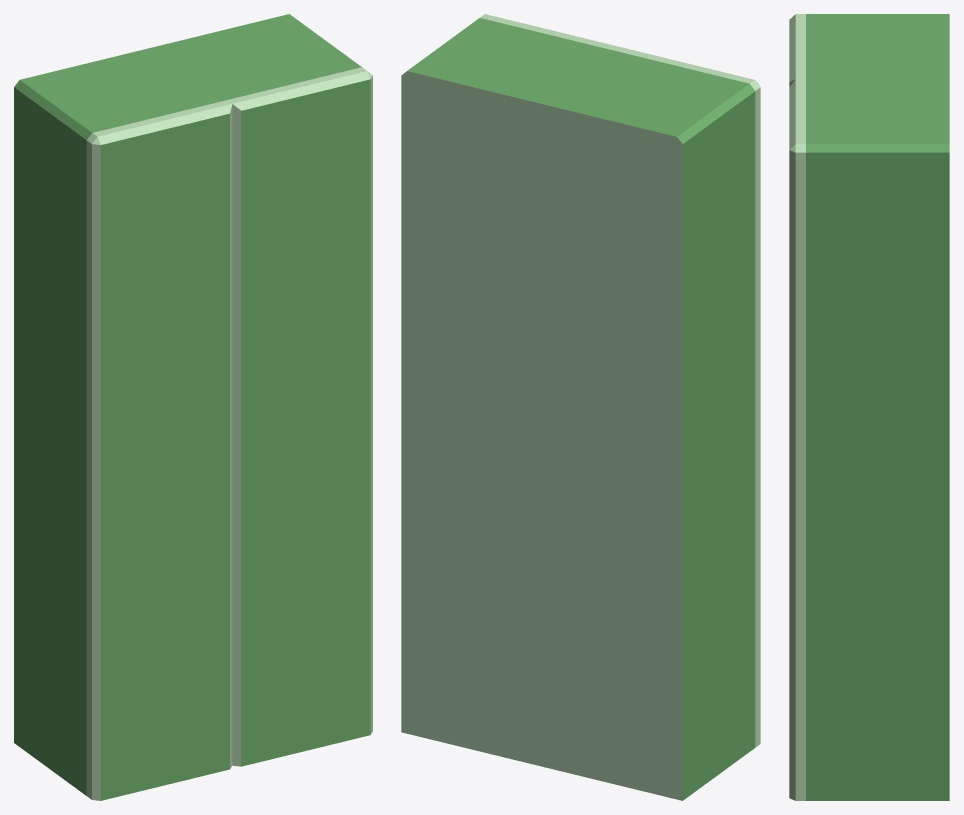
File: refridgerator_01.fbx
The picture shows the model from 3 angles, left to right: view 1: azimuth 30°, elevation 25°; view 2: azimuth 150°, elevation 25°; view 3: azimuth 270°, elevation 25°; orthographic projection.
Parts seen in each view (by area): view 1: LeftDoor, RightDoor, refridgerator_01; view 2: refridgerator_01, LeftDoor, RightDoor; view 3: refridgerator_01, RightDoor, LeftDoor.
Boxes of the visible parts, bbox=[...] form: LeftDoor: bbox=[86, 100, 232, 800]; RightDoor: bbox=[227, 67, 372, 766]; refridgerator_01: bbox=[14, 14, 361, 795]; refridgerator_01: bbox=[401, 18, 755, 800]; LeftDoor: bbox=[615, 47, 760, 747]; RightDoor: bbox=[480, 14, 619, 50]; refridgerator_01: bbox=[806, 14, 949, 800]; RightDoor: bbox=[789, 79, 805, 800]; LeftDoor: bbox=[789, 14, 805, 86].
Bounding box in the file's own units: 97.19 × 219 × 48.6.
